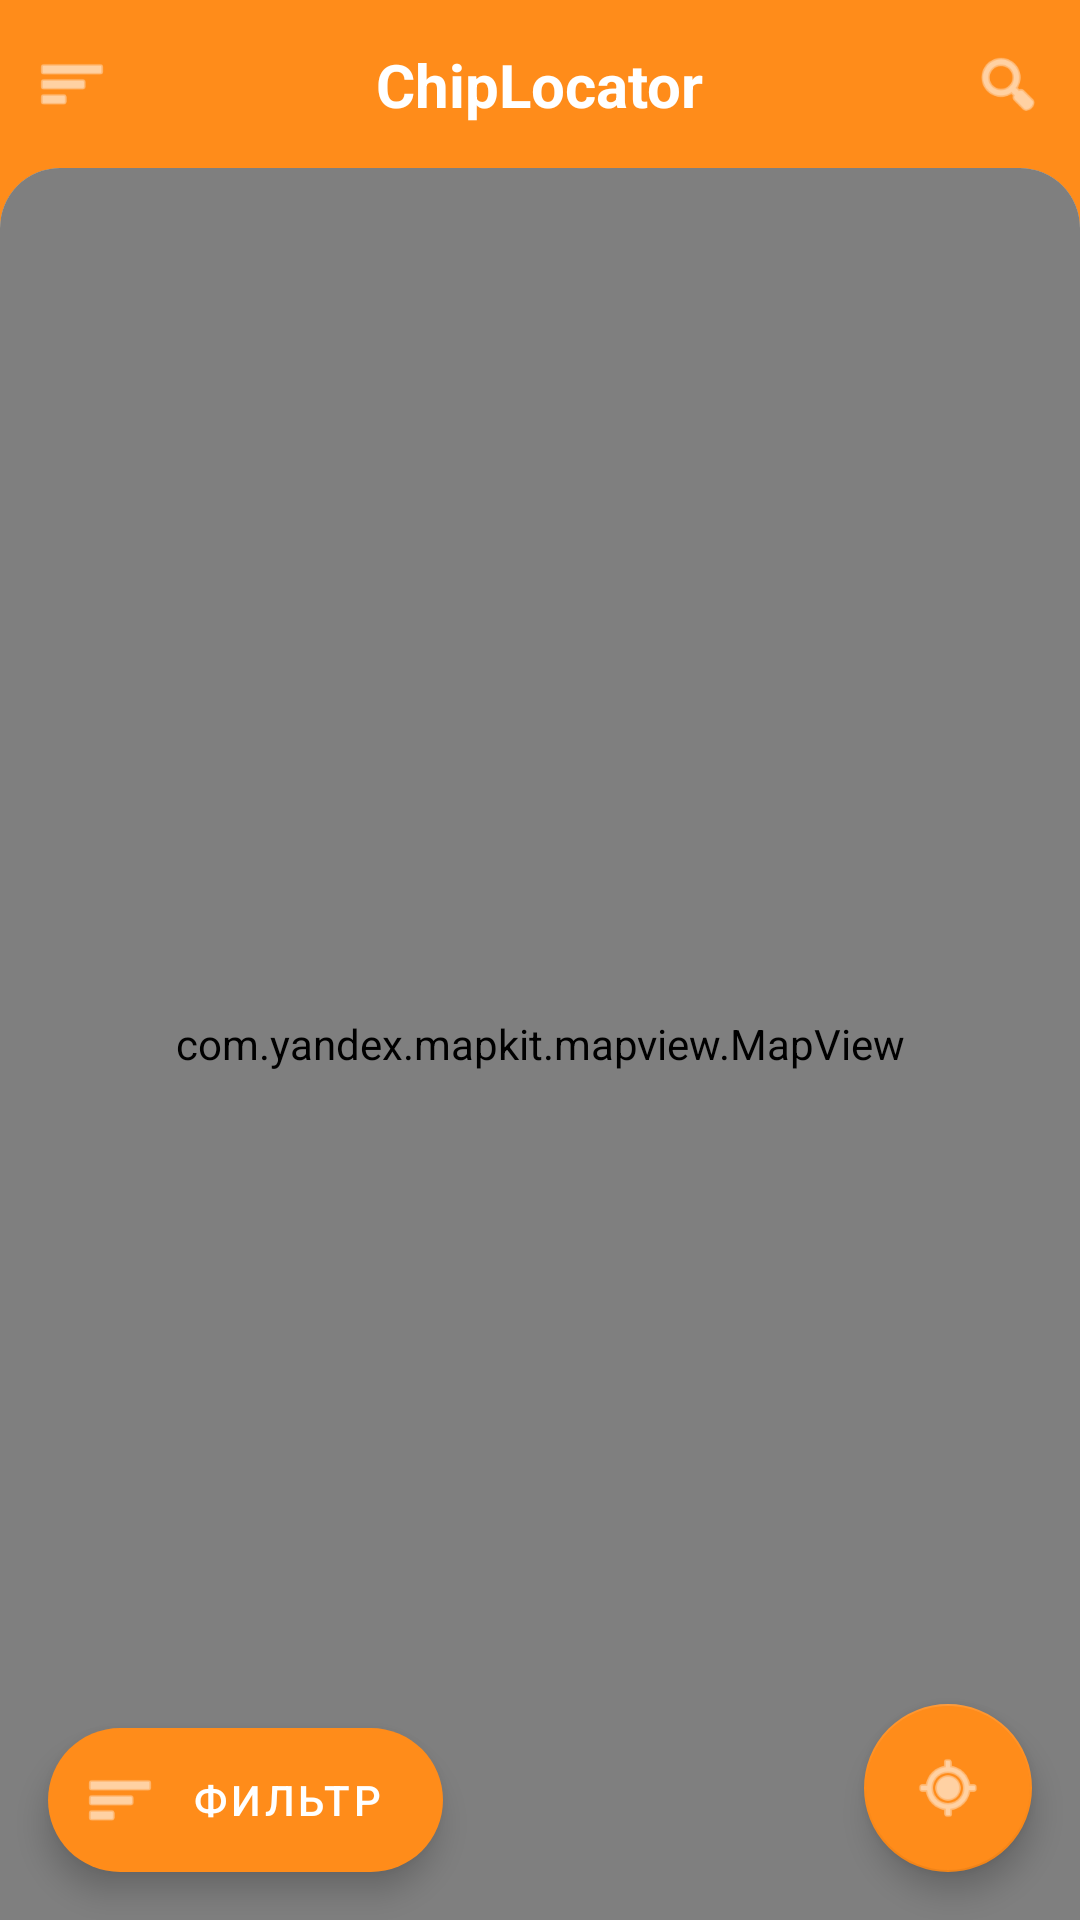

Icon click points for this 1080x1920 phone screenshot, format (x=x, y=y):
mylocation: (x=948, y=1788)
search: (x=1008, y=84)
sort by size: (x=72, y=84)
